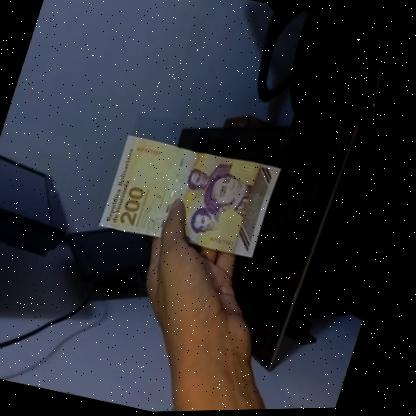two_hundred-front-vef: (99, 131, 288, 264)
